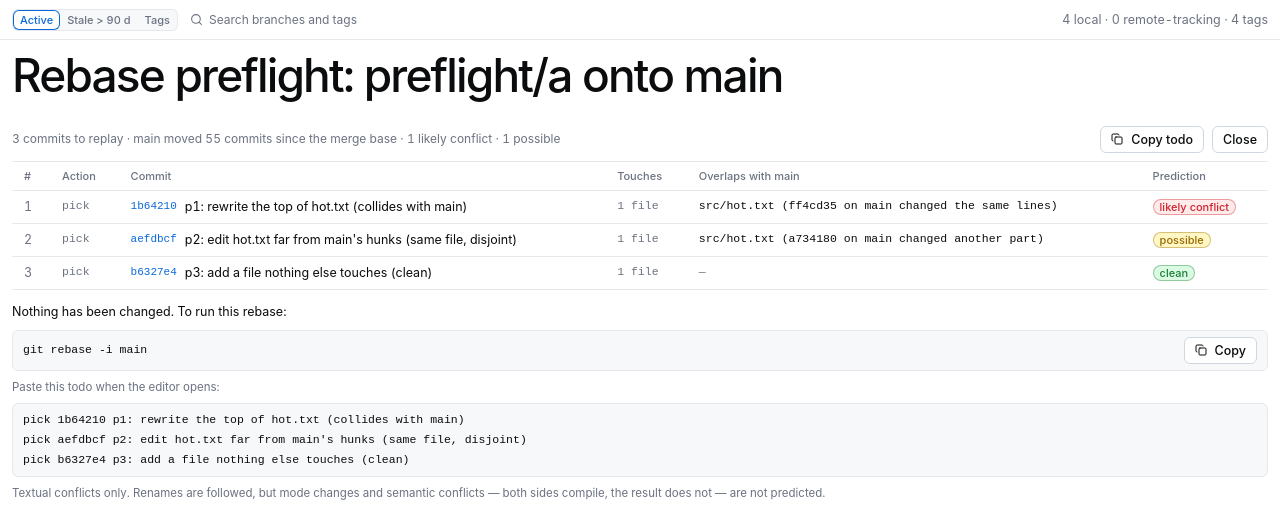
the panel's other states › closes back to the Branches table
Click the button "Close": [1240, 139] box [1212,126,1268,153]
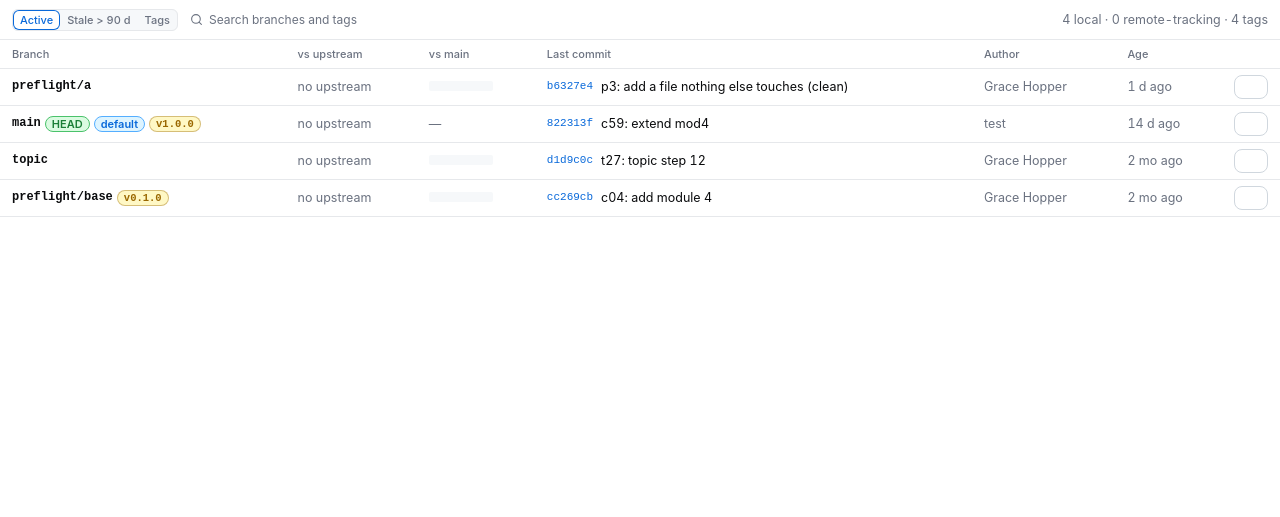
Check: the table named "Branches" is shown, box [0,40,1279,217]
